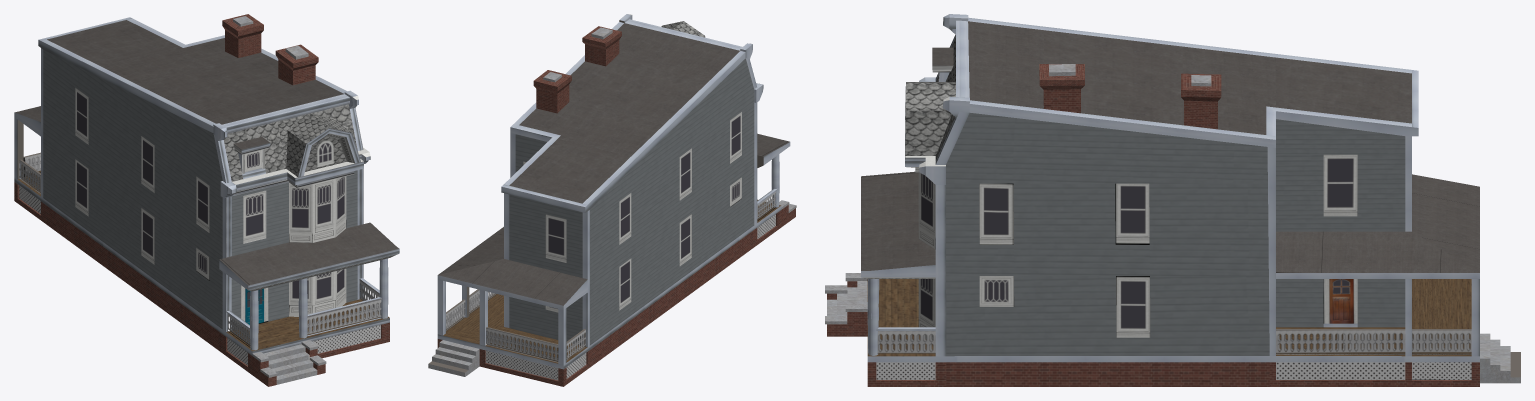
3 renders of one model, left to right at view 1: azimuth 30°, elevation 25°; view 2: azimuth 150°, elevation 25°; view 3: azimuth 270°, elevation 25°, orthographic. The views are drawn at different scales.
Visible parts, largest first — view 1: Object_3; view 2: Object_3; view 3: Object_3.
Boxes of the visible parts, <box> form: Object_3: <box>14,14,399,386</box>; Object_3: <box>428,14,796,386</box>; Object_3: <box>825,14,1520,386</box>.
Size of the model in its own units: 660 by 1000 by 2045.
1 material, 1 textured.
